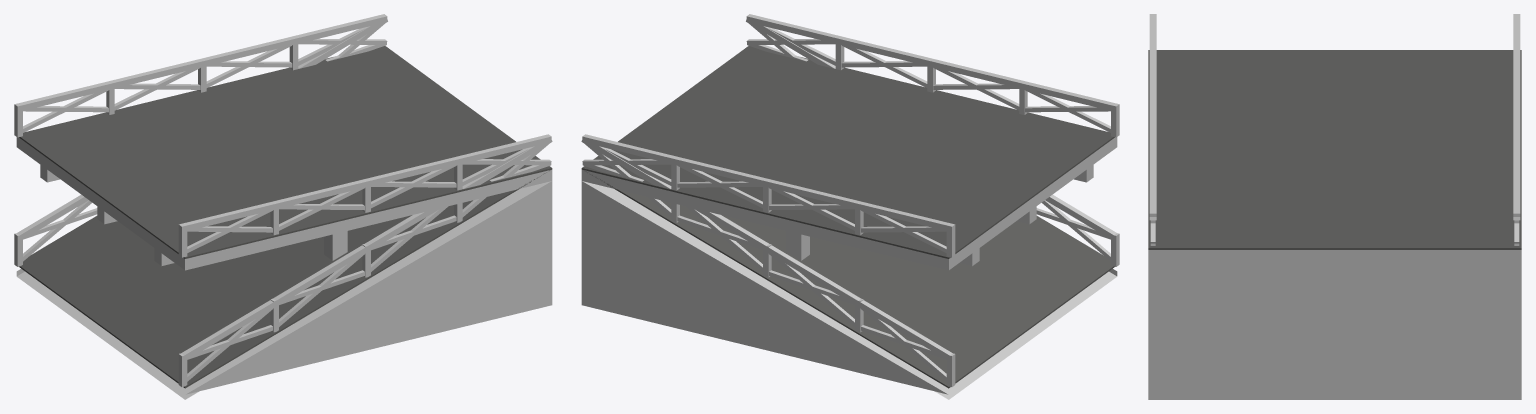
The model's file is most_dreveny.glb.
The picture shows the model from 3 angles, left to right: view 1: azimuth 30°, elevation 25°; view 2: azimuth 150°, elevation 25°; view 3: azimuth 270°, elevation 25°; orthographic projection. The views are drawn at different scales.
Visible parts, largest first — view 1: stred, hlava, pilir; view 2: stred, hlava, pilir; view 3: stred, hlava.
Boxes of the visible parts, x1=… form: stred: x1=14, y1=14, x2=552, y2=270; hlava: x1=14, y1=17, x2=552, y2=399; pilir: x1=324, y1=231, x2=347, y2=260; stred: x1=581, y1=14, x2=1119, y2=270; hlava: x1=581, y1=17, x2=1119, y2=399; pilir: x1=786, y1=231, x2=809, y2=260; stred: x1=1148, y1=14, x2=1521, y2=276; hlava: x1=1148, y1=217, x2=1521, y2=399.
Bounding box in the file's own units: 14.99 × 6.7 × 11.8.
Materials: 1 (1 with a texture image).
